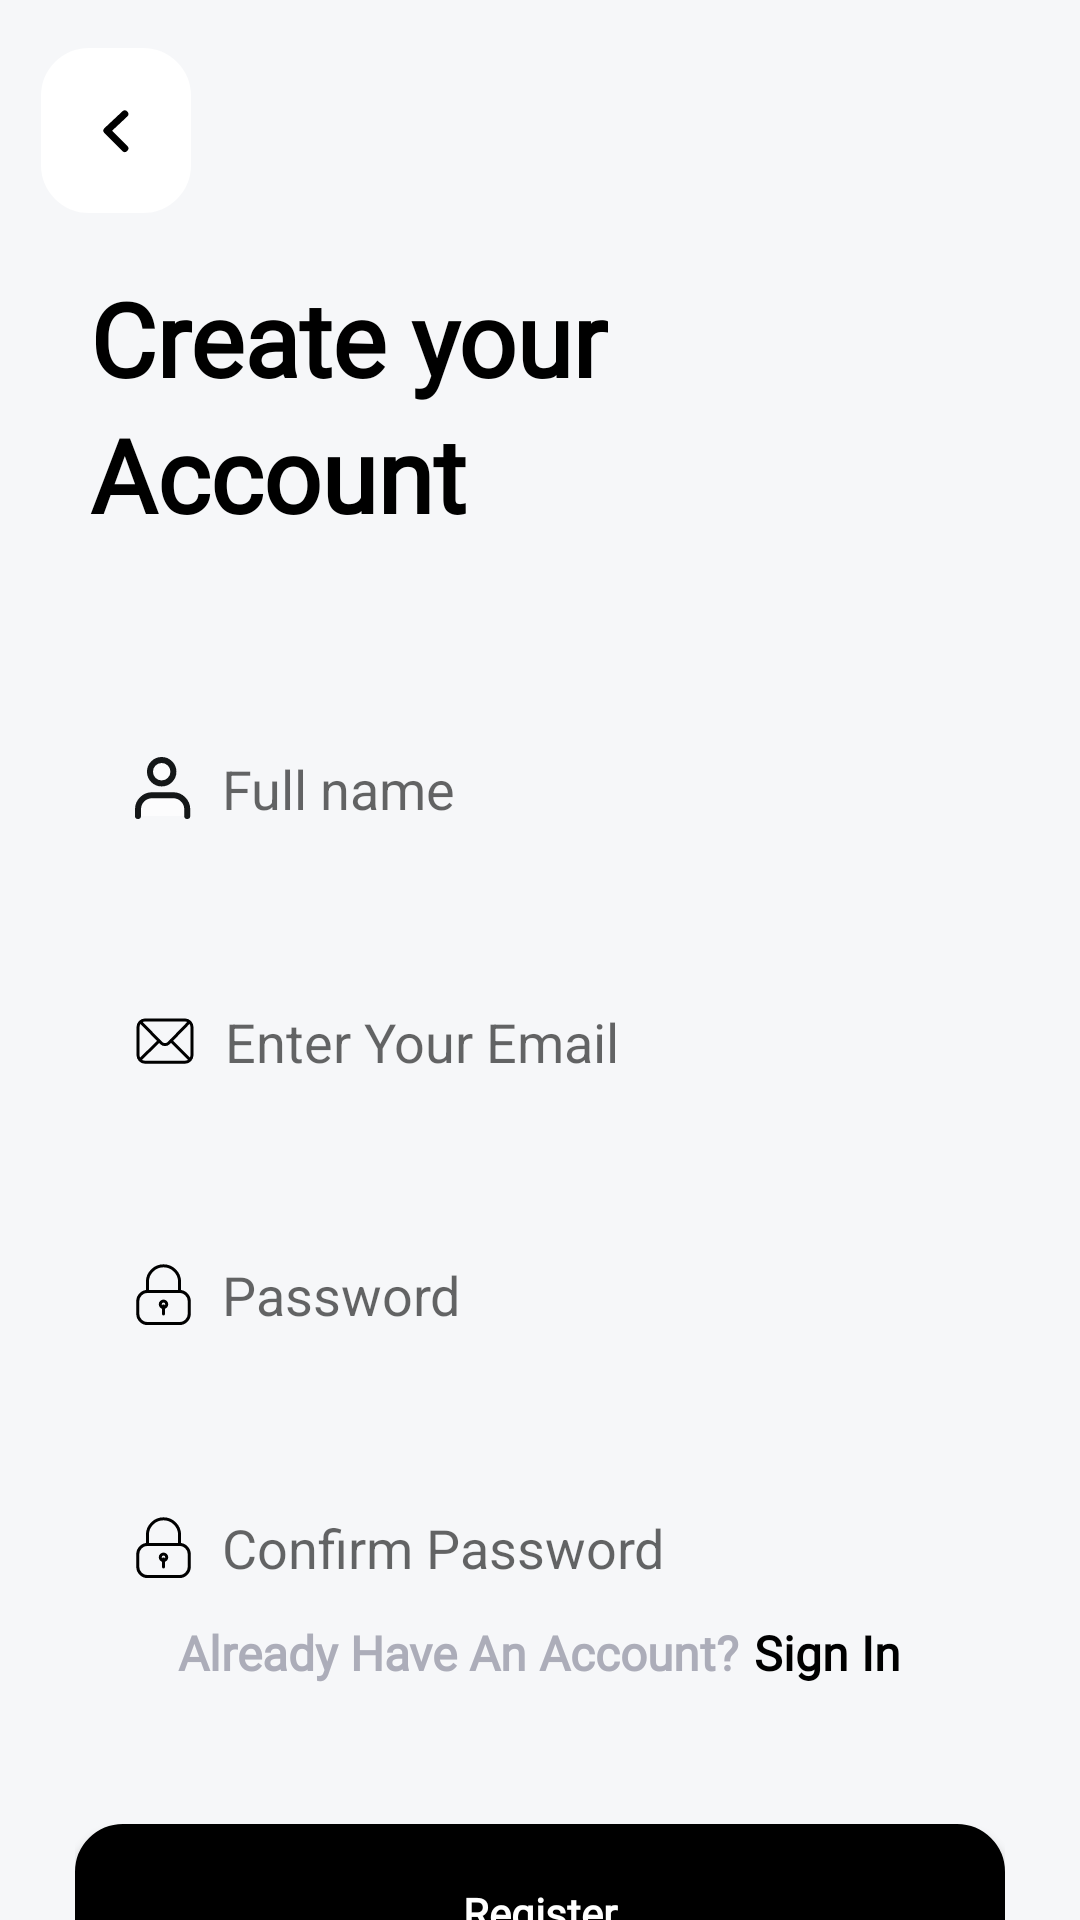

Where icons sit on this 1080×1920 app screen, as (x1, y1, x2, y2):
back: (41, 48, 191, 213)
